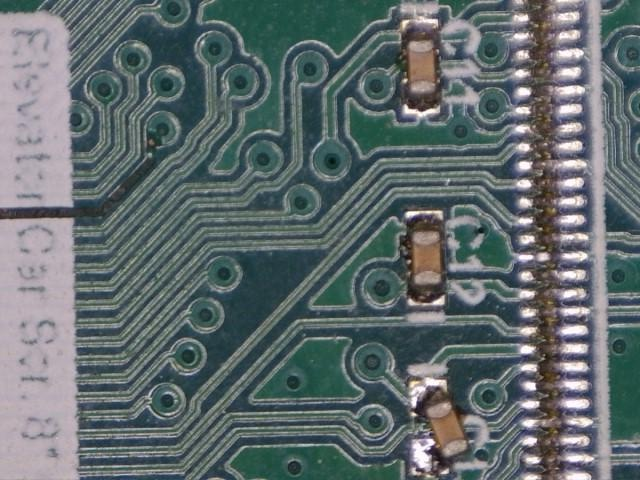pcb_defect: (409, 380, 469, 476)
